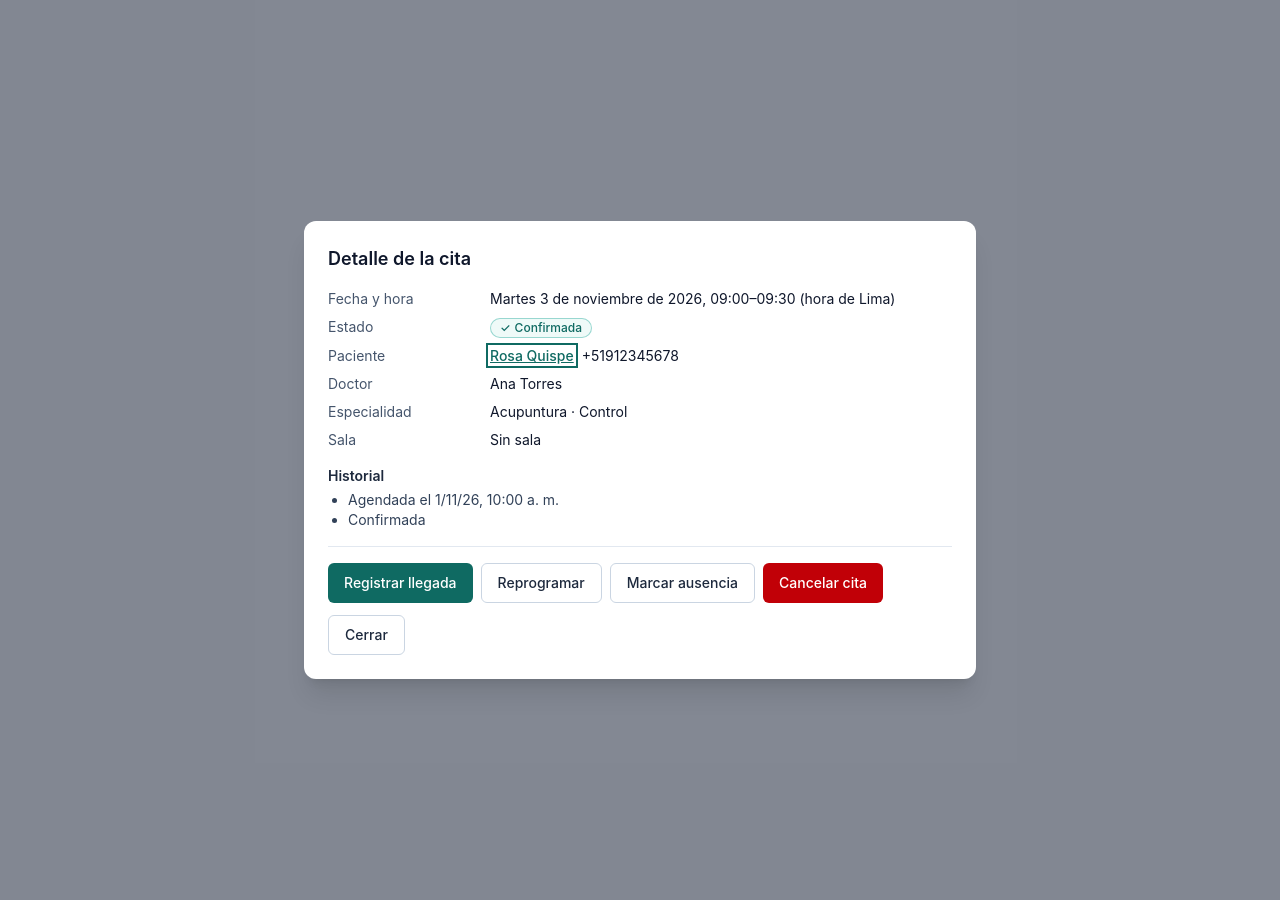
AppointmentDetailDialog: acciones › check-in llama al endpoint y refleja el nuevo estado y el mensaje
Click the button "Registrar llegada" at point(400, 583), box 328,563 -> 473,603
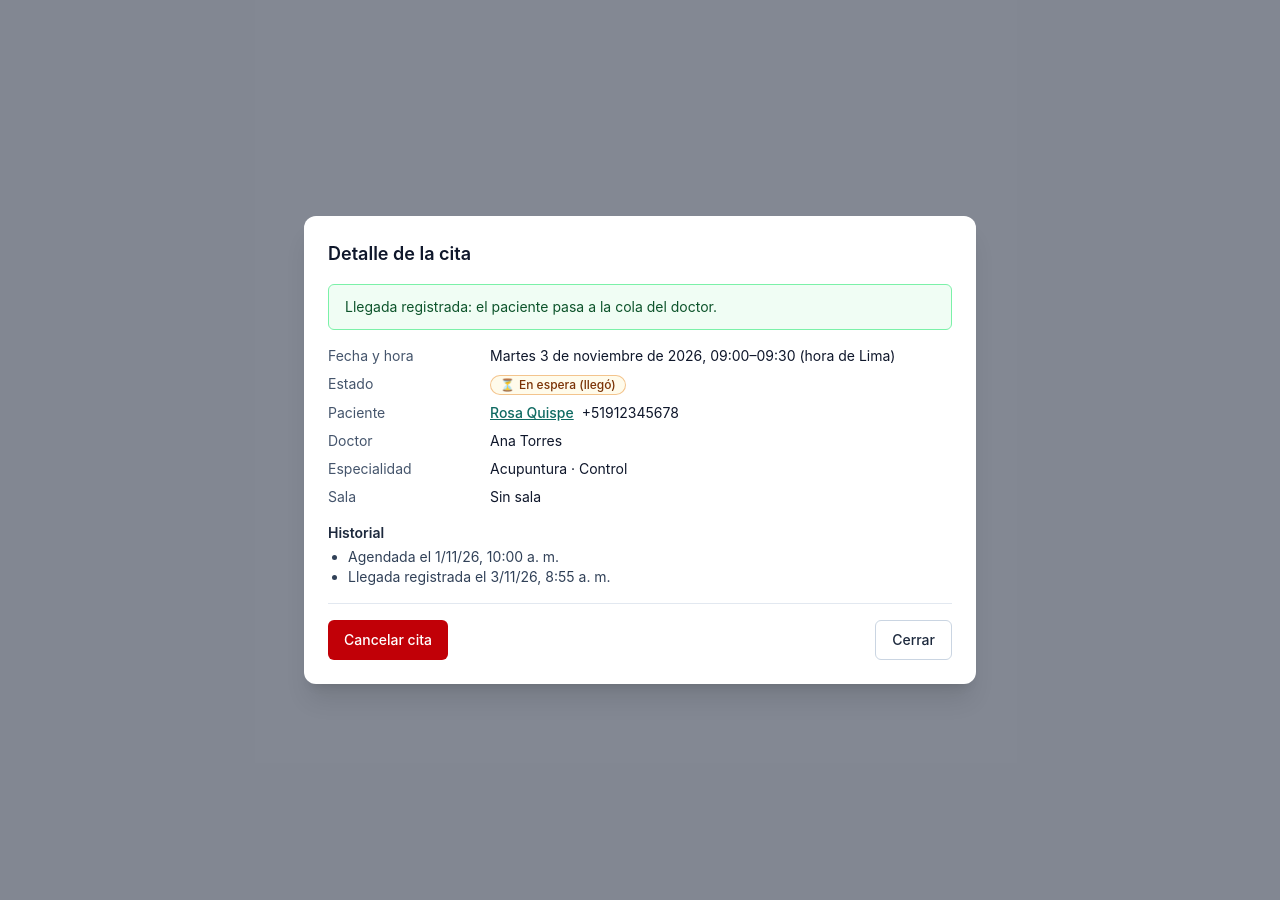
Result: the text "Llegada registrada: el paciente pasa a la cola del doctor." is shown at 345,298 -> 717,315
Result: the button "Registrar llegada" is gone
Result: the text "En espera (llegó)" is shown at 519,377 -> 616,392
